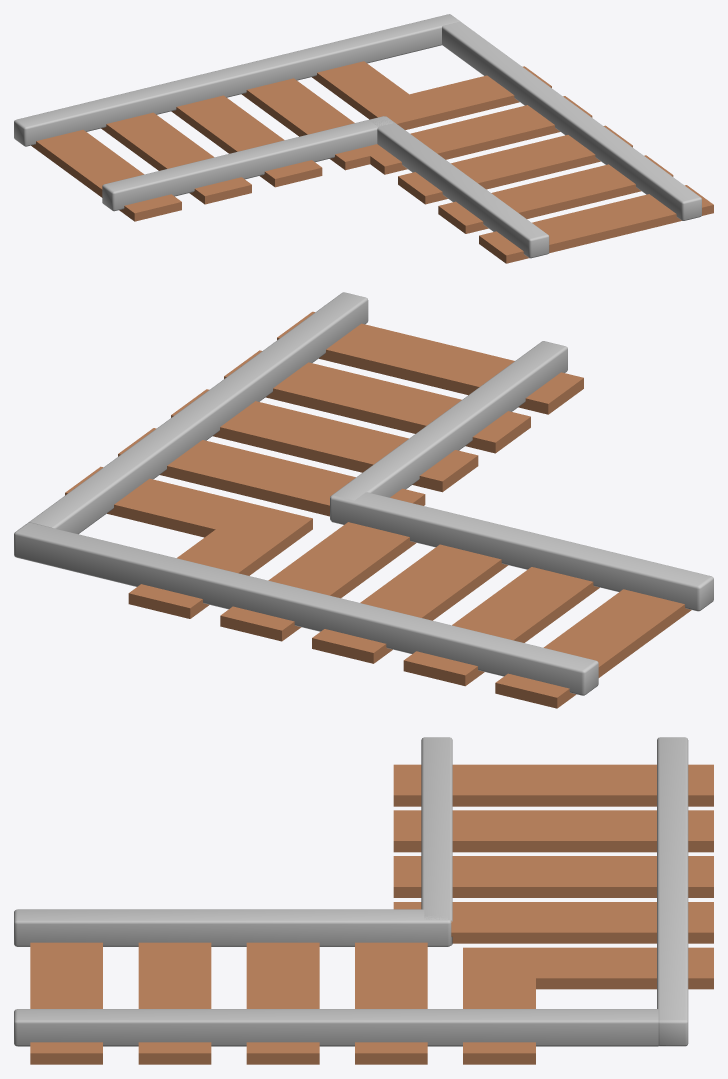
Rendered from Route02.glb.
The picture shows the model from 3 angles, top to bottom: view 1: azimuth 30°, elevation 25°; view 2: azimuth 150°, elevation 25°; view 3: azimuth 270°, elevation 25°; orthographic projection. The views are drawn at different scales.
Parts seen in each view (by area): view 1: Cube.006, Cube.014, Cube.003, Cube.004, Cube, Cube.005; view 2: Cube.006, Cube.014, Cube.003, Cube.004, Cube, Cube.005; view 3: Cube.014, Cube.006, Cube.004, Cube.005, Cube.003, Cube.
Boxes of the visible parts, bbox=[...] form: Cube.006: bbox=[363, 66, 713, 263]; Cube.014: bbox=[31, 61, 435, 221]; Cube.003: bbox=[14, 14, 460, 146]; Cube.004: bbox=[442, 21, 701, 220]; Cube: bbox=[102, 116, 392, 211]; Cube.005: bbox=[370, 116, 549, 258]; Cube.006: bbox=[65, 311, 583, 537]; Cube.014: bbox=[128, 505, 691, 708]; Cube.003: bbox=[14, 522, 598, 695]; Cube.004: bbox=[28, 292, 368, 534]; Cube: bbox=[330, 492, 713, 611]; Cube.005: bbox=[330, 341, 567, 520]; Cube.014: bbox=[393, 764, 713, 989]; Cube.006: bbox=[30, 942, 535, 1064]; Cube.004: bbox=[14, 1009, 658, 1046]; Cube.005: bbox=[14, 909, 451, 946]; Cube.003: bbox=[657, 737, 688, 1046]; Cube: bbox=[421, 737, 452, 945].
Size of the model in its own units: 1.3 by 0.0654 by 1.29.
